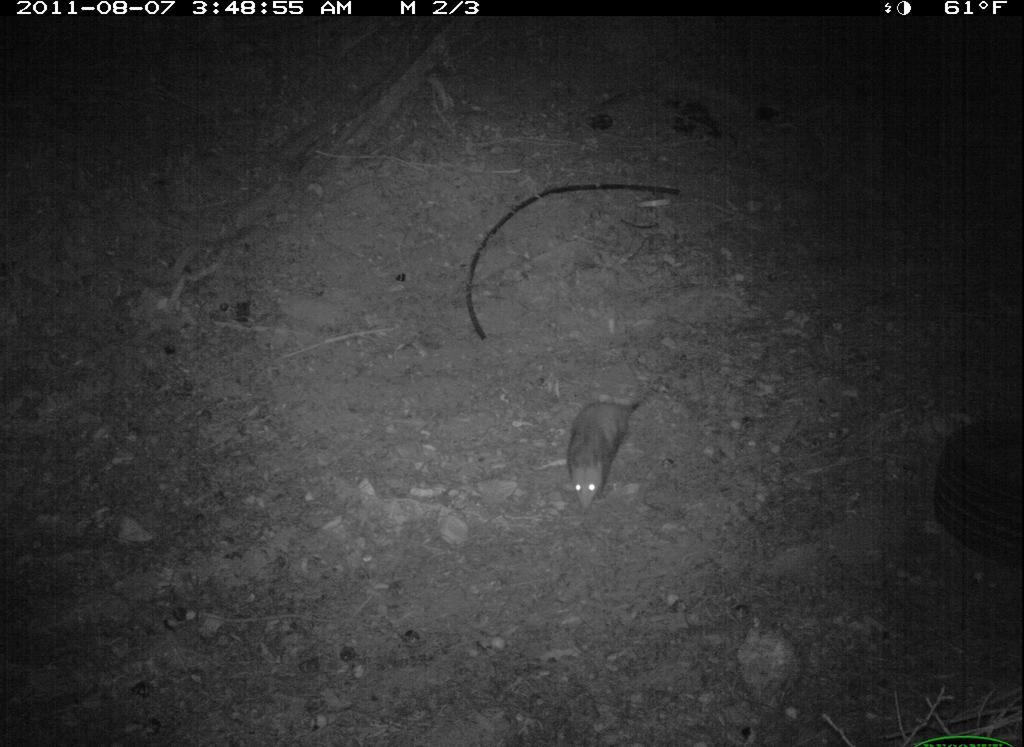opossum: (541, 369, 670, 533)
